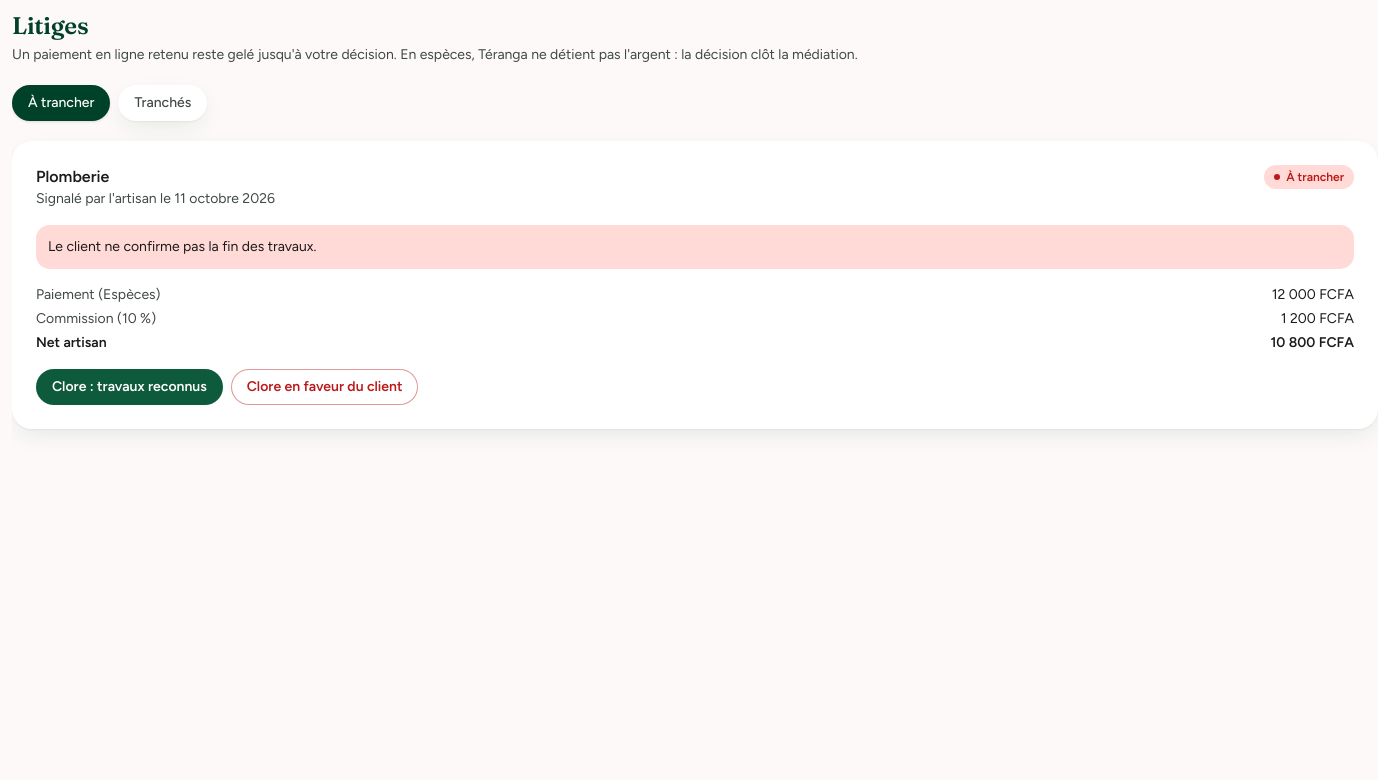
Test: AdminDisputesScreen › en espèces, propose une médiation et jamais un remboursement par Téranga
Click the button "Clore en faveur du client" at (325, 387), box [231,369,418,405]
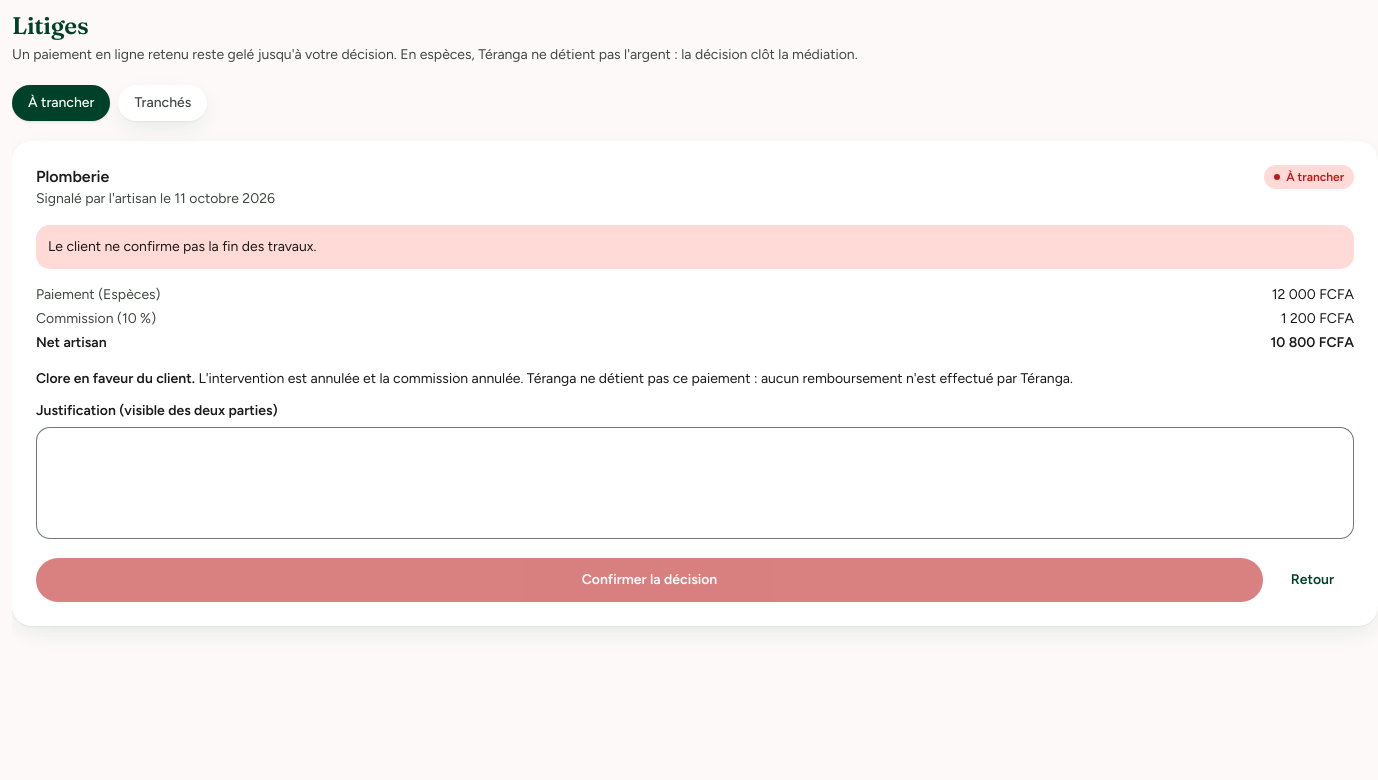
Check: the text "aucun remboursement n'est effectué par Téranga" is shown, box [198,370,1073,387]
